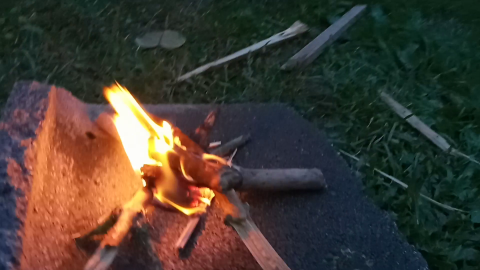fire: (96, 79, 238, 215)
